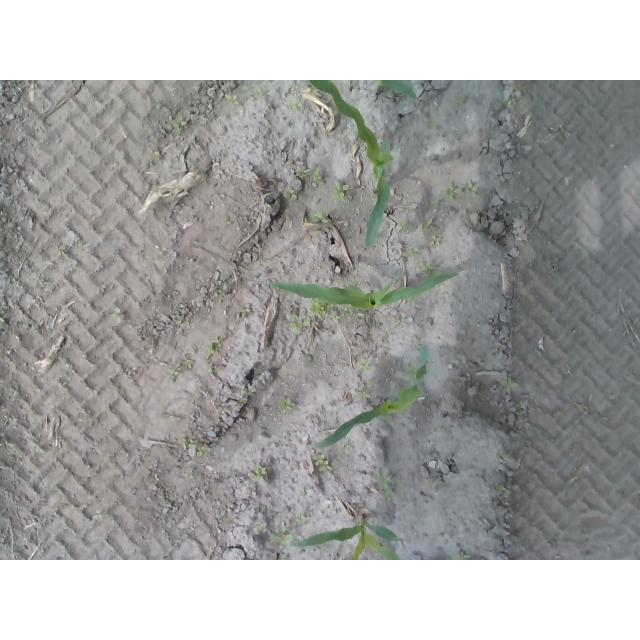Maize: (308, 81, 394, 248), (307, 344, 430, 452), (268, 270, 458, 313), (290, 509, 402, 560), (372, 80, 417, 98)
Weeds: (372, 467, 400, 502), (442, 179, 480, 201), (179, 436, 209, 457), (207, 335, 221, 375), (167, 357, 193, 377), (289, 313, 311, 335), (295, 168, 323, 185), (312, 452, 332, 472), (330, 182, 351, 199), (309, 300, 328, 318), (400, 363, 416, 382), (420, 216, 437, 233), (272, 531, 292, 545), (278, 398, 295, 414), (502, 377, 514, 395), (419, 259, 433, 274), (313, 210, 330, 222), (112, 307, 123, 325), (250, 83, 264, 97), (255, 467, 268, 481), (495, 481, 507, 496), (225, 94, 239, 106), (456, 552, 472, 561), (0, 440, 16, 449), (291, 98, 302, 111), (454, 97, 467, 108), (176, 119, 188, 130), (243, 384, 256, 394), (399, 221, 409, 234), (287, 191, 298, 202), (426, 120, 438, 130), (296, 514, 306, 525), (359, 361, 369, 372), (407, 247, 418, 257), (431, 235, 440, 246), (234, 399, 246, 407), (432, 200, 441, 210), (154, 150, 161, 161), (155, 98, 161, 110), (504, 97, 513, 105), (245, 302, 252, 312), (58, 248, 66, 256), (0, 311, 4, 325)
